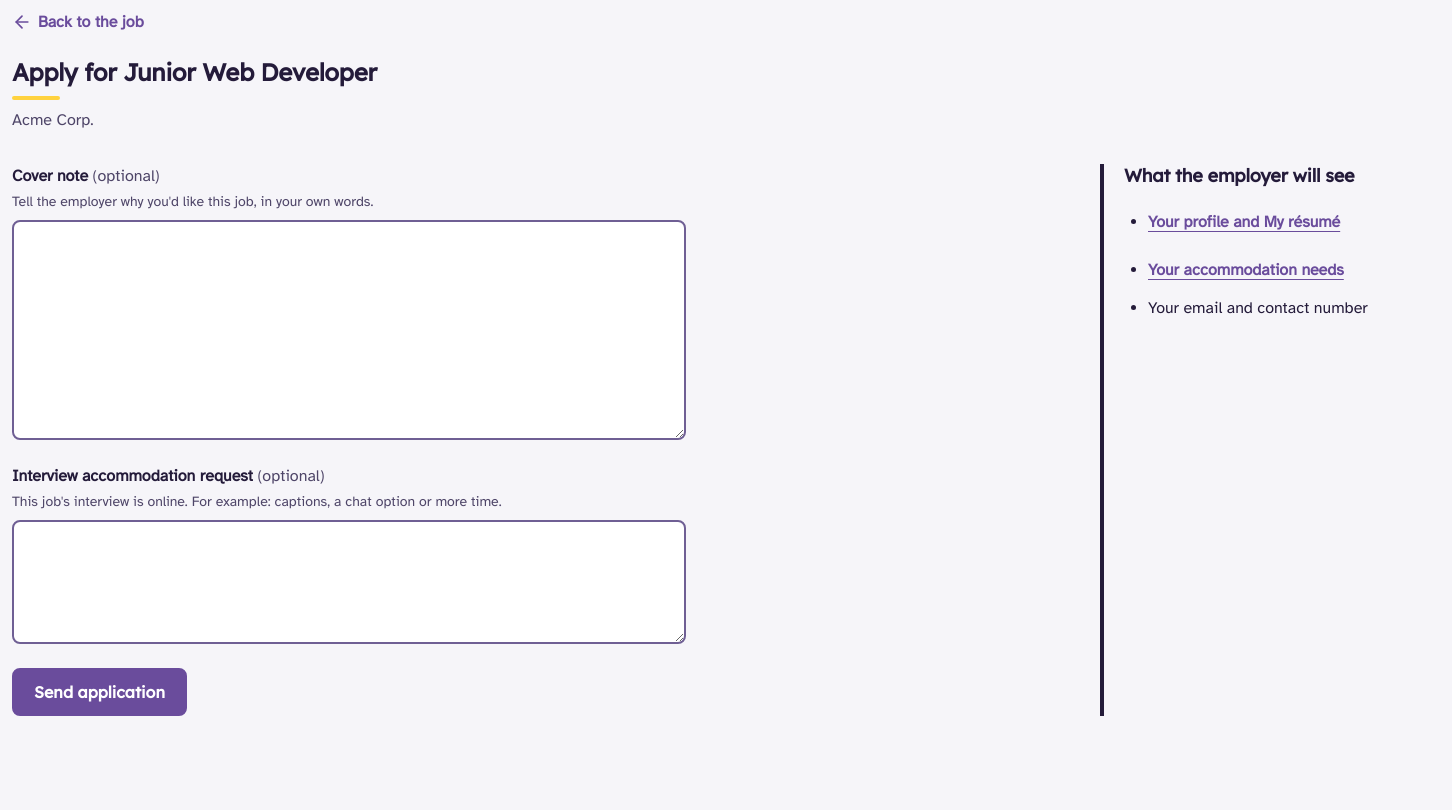
ApplyPage › shows field errors in a summary
Type "I have three years of bookkeeping." into the text box labelled "Cover note (optional)" at (349, 330), box [12,220,686,440]
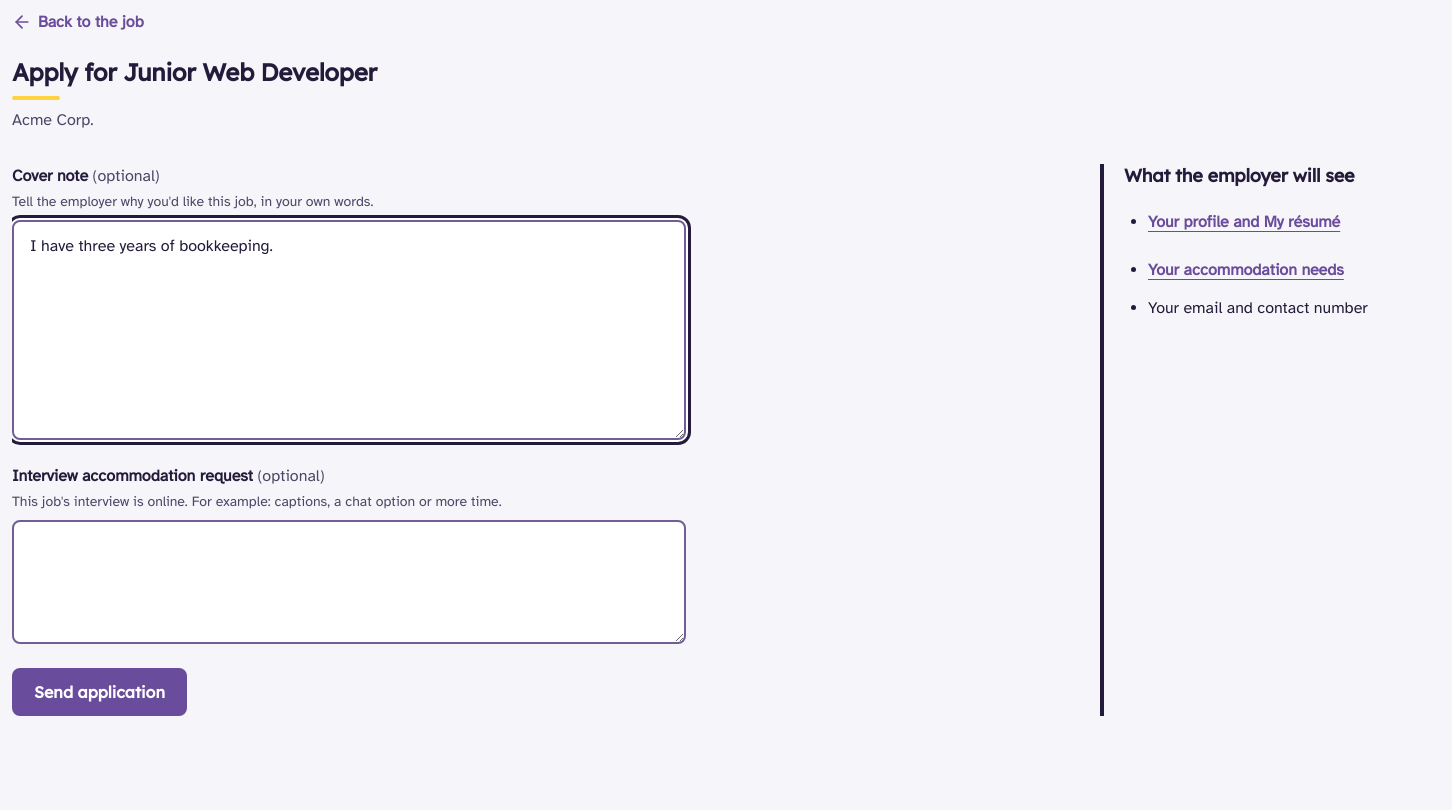
Type "Captions, please." into the text box labelled "Interview accommodation request (optional)" at (349, 582), box [12,520,686,644]
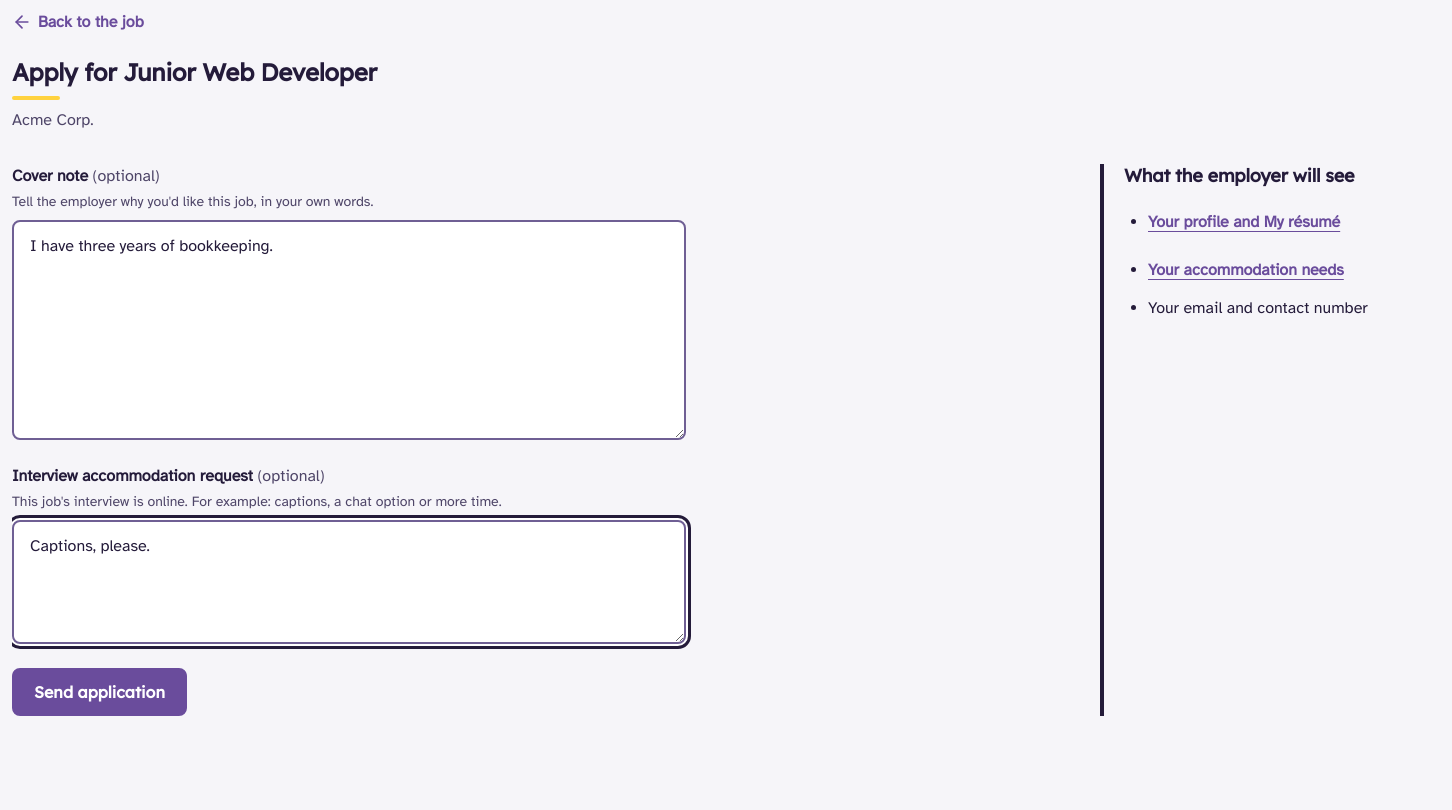
Click the button "Send application" at (99, 692), box [12,668,187,716]
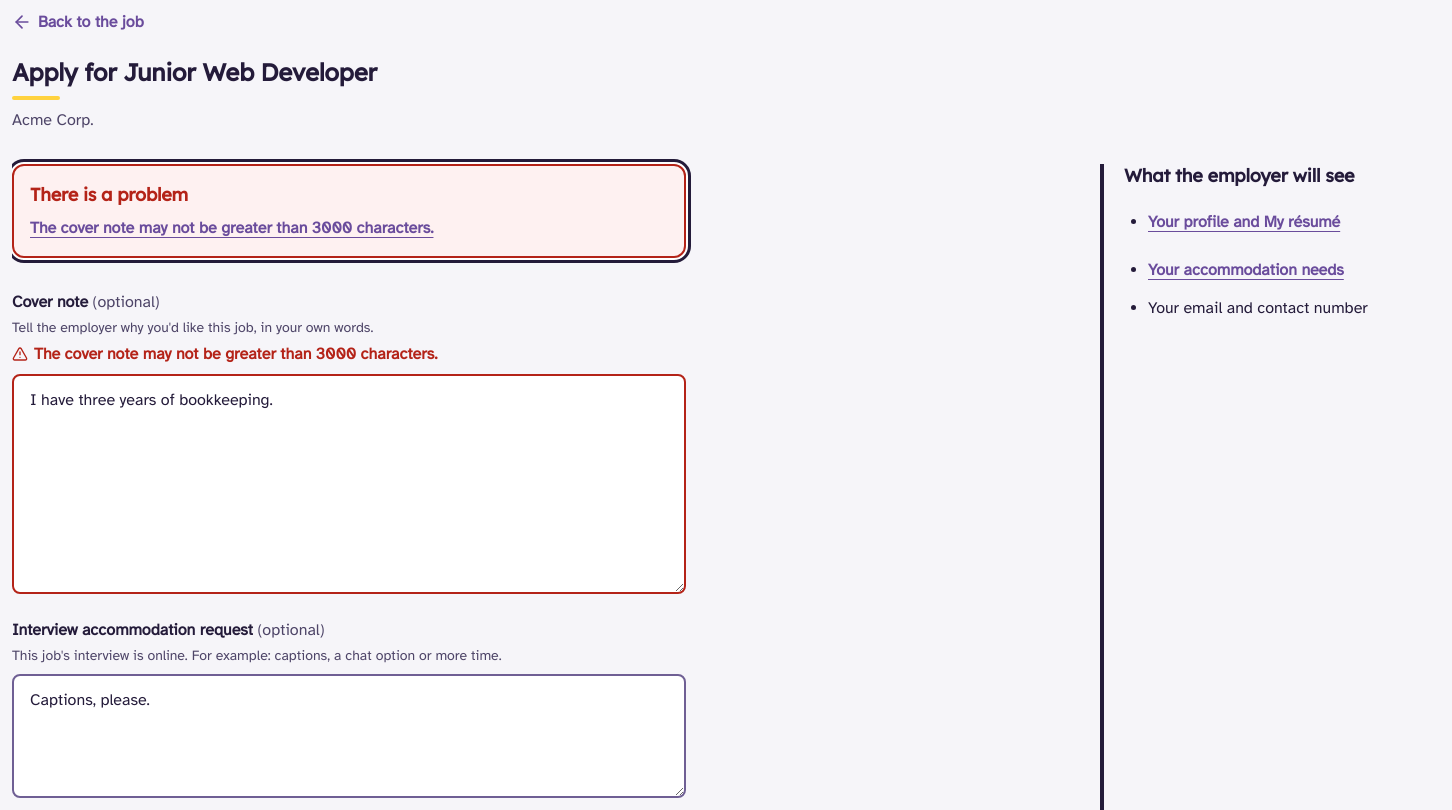
Expected: the link "The cover note may not be greater than 3000 characters." is shown, [30,218,434,238]
